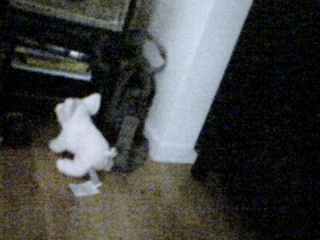piggy: (47, 92, 120, 179)
